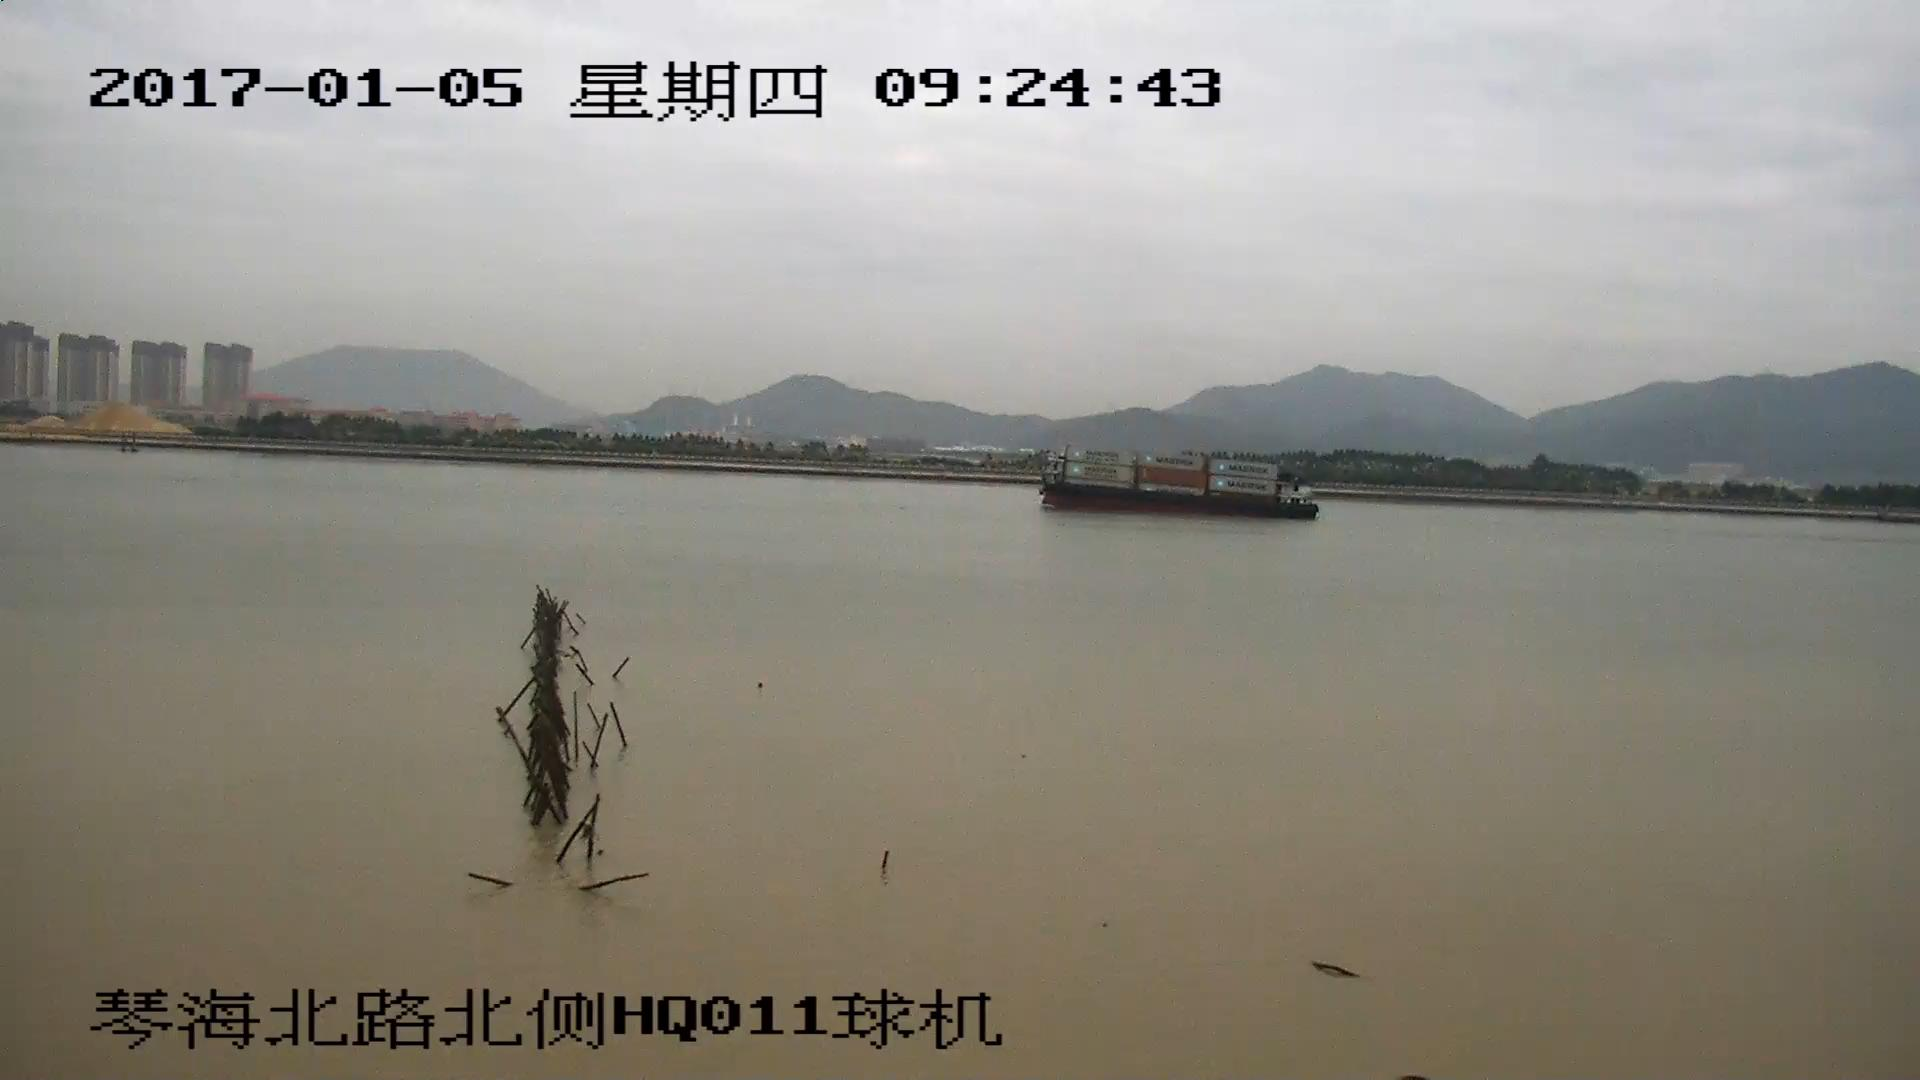container ship: (1033, 448, 1320, 521)
